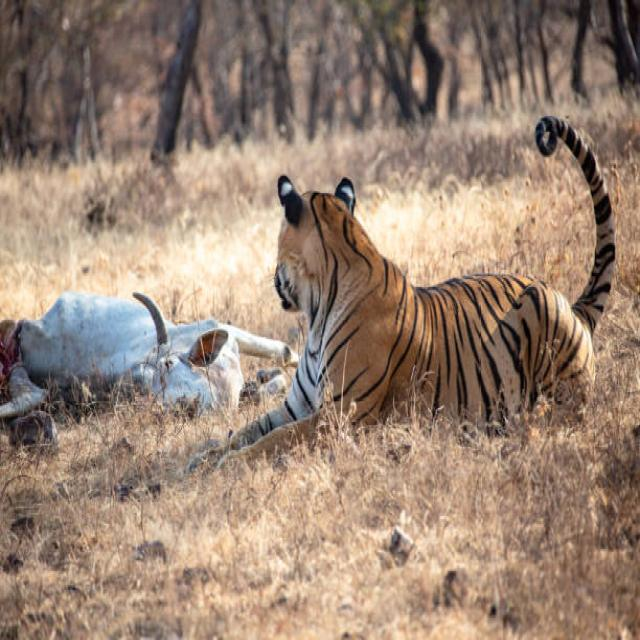not_pig: (184, 113, 616, 477), (4, 278, 300, 430)
